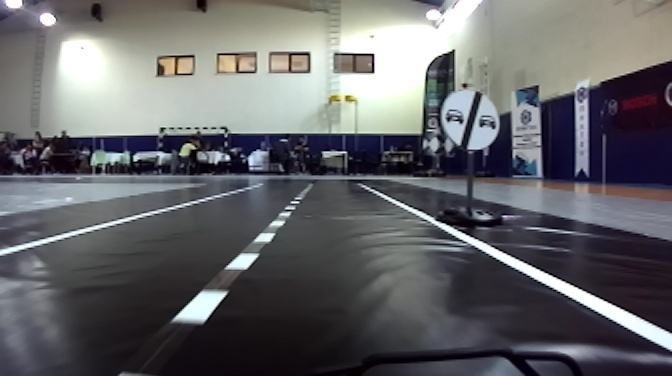sollama_serbest: (438, 88, 500, 151)
